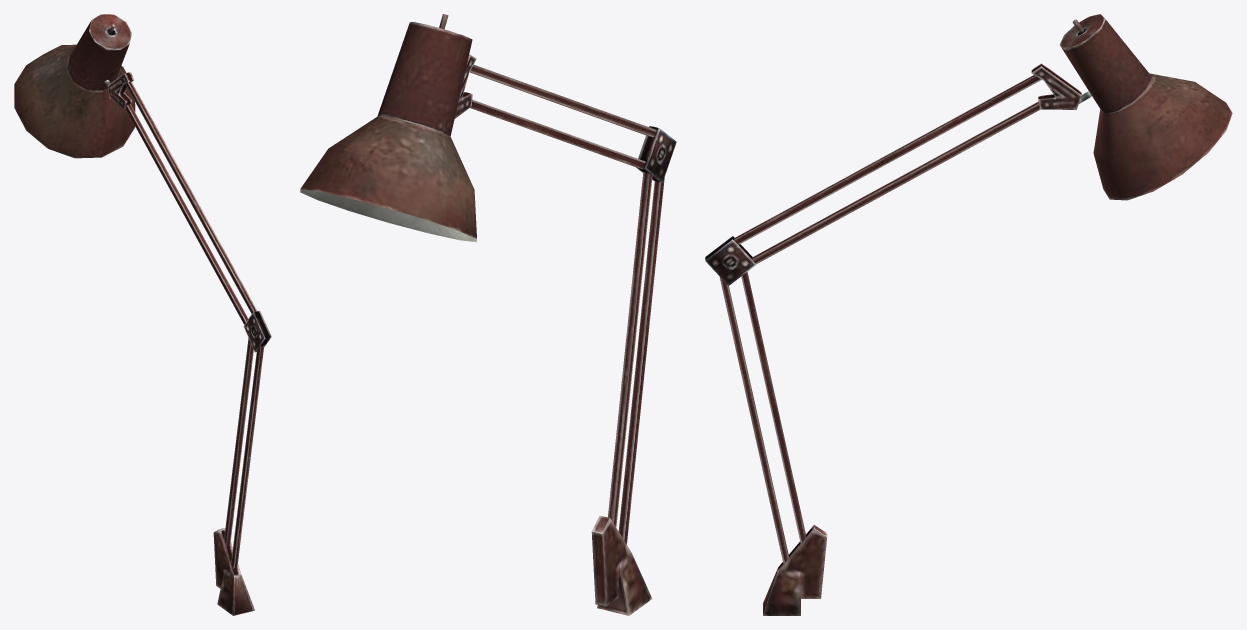
File: lamp1.obj
3 renders of one model, left to right at view 1: azimuth 30°, elevation 25°; view 2: azimuth 150°, elevation 25°; view 3: azimuth 270°, elevation 25°, orthographic. The views are drawn at different scales.
Parts seen in each view (by area): view 1: classname_mesh; view 2: classname_mesh; view 3: classname_mesh.
Part boxes in pixels (x1=…): classname_mesh: x1=14, y1=14, x2=271, y2=615; classname_mesh: x1=300, y1=14, x2=676, y2=615; classname_mesh: x1=705, y1=14, x2=1232, y2=615.
Bounding box in the file's own units: 27.9 × 121 × 97.86.
